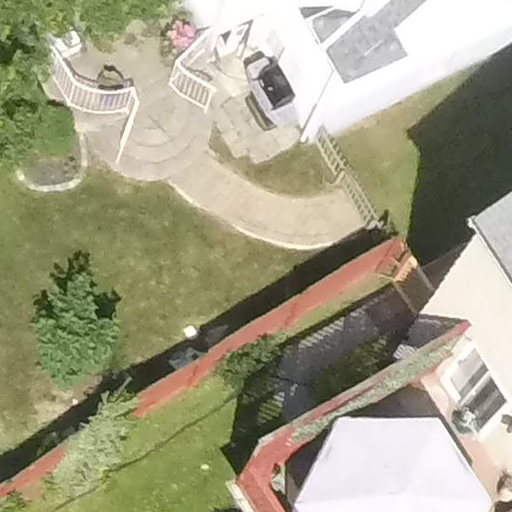barbecue: (229, 49, 303, 134)
